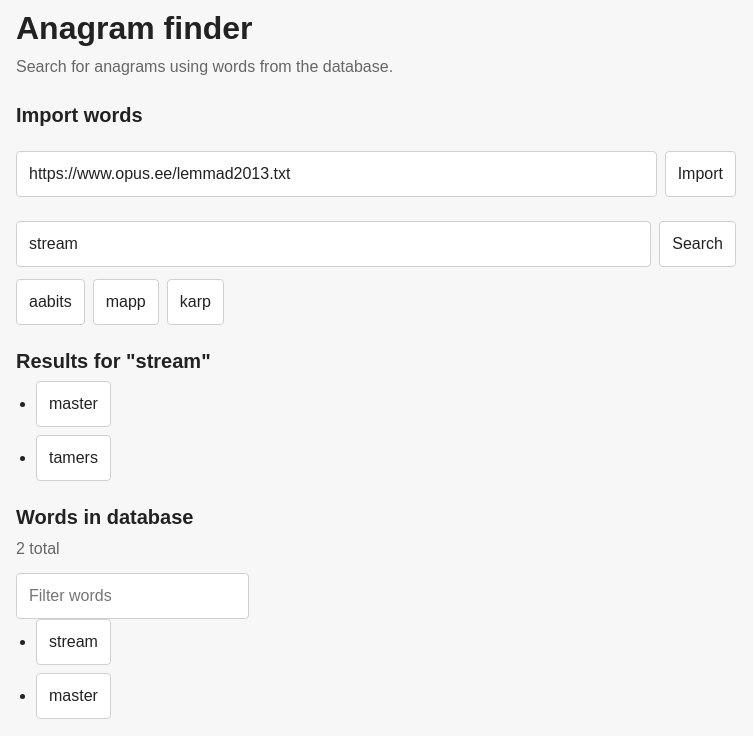
Test case: App › lets you search for another word
The width and height of the screenshot is (753, 736).
Expected: the text "2 total" is shown, [16,540,60,557]
Replace the text in the 2nd field with placeholder "Enter a word" with "plates" at (334, 244), box [16,221,651,267]
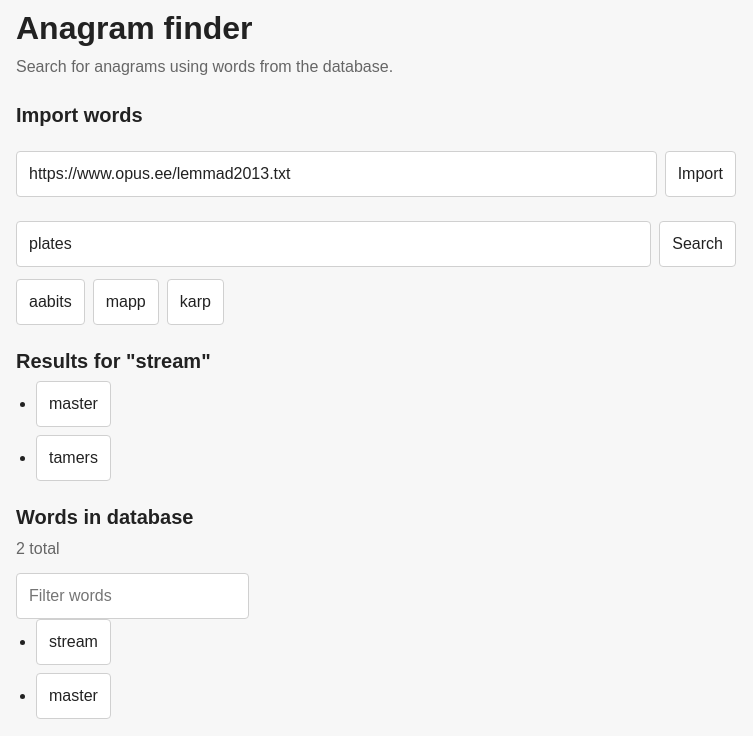
Click the button "Search" at (698, 244), box [659,221,736,267]
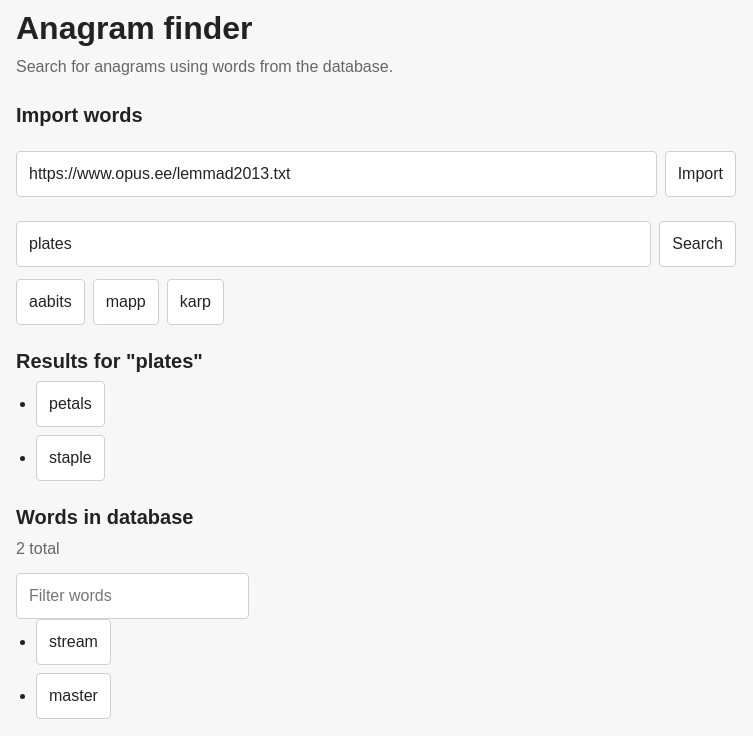
Expected: the button "petals" is shown, [36,381,105,427]
Expected: the heading "Results for \"plates\"" is shown, [16,350,203,372]
